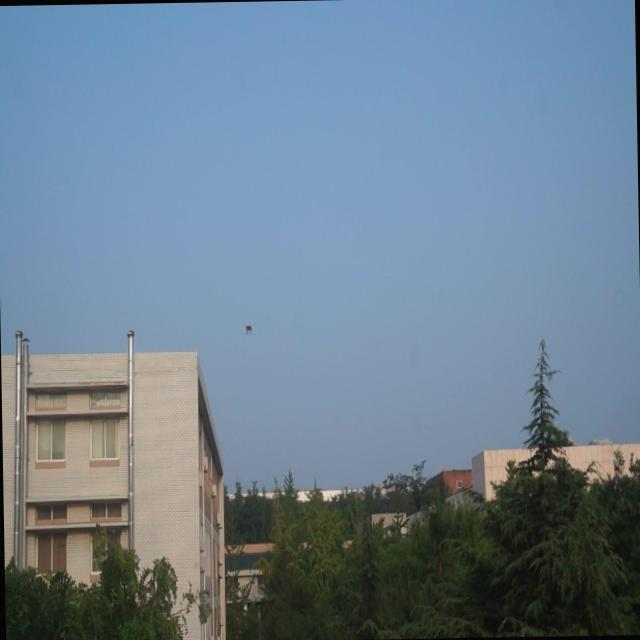drone: (243, 321, 255, 333)
